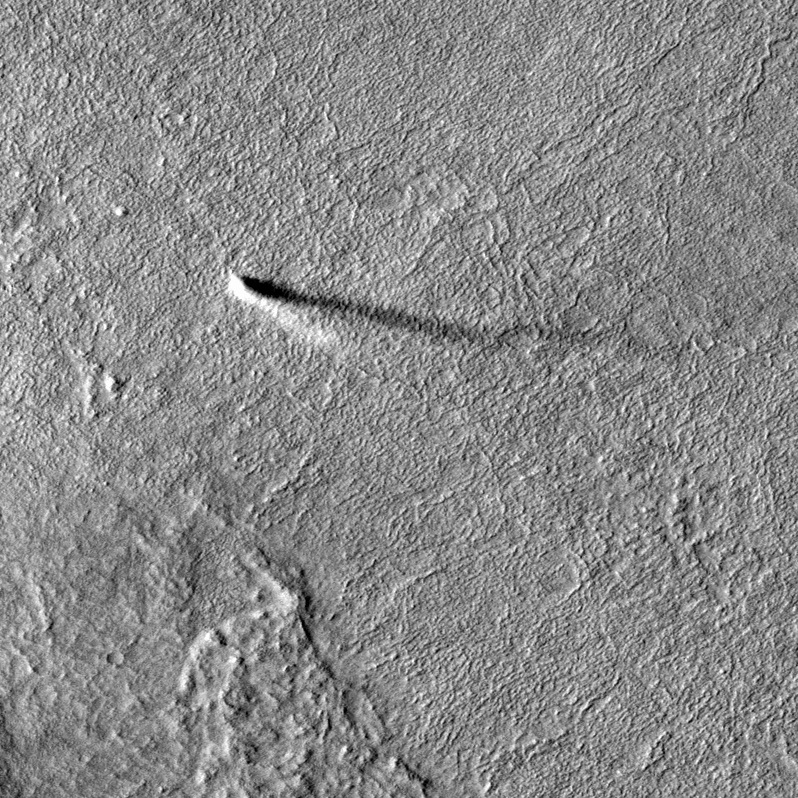dust_devil: (223, 267, 683, 369)
